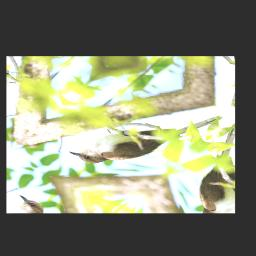Cuckoo: (67, 80, 226, 191)
